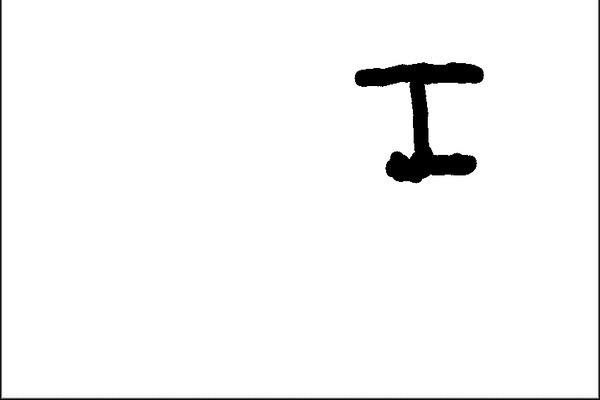i: (342, 51, 504, 186)
